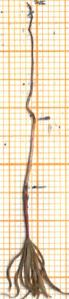flower: (0, 236, 69, 299)
root: (22, 1, 42, 116)
stem: (18, 118, 38, 237)
